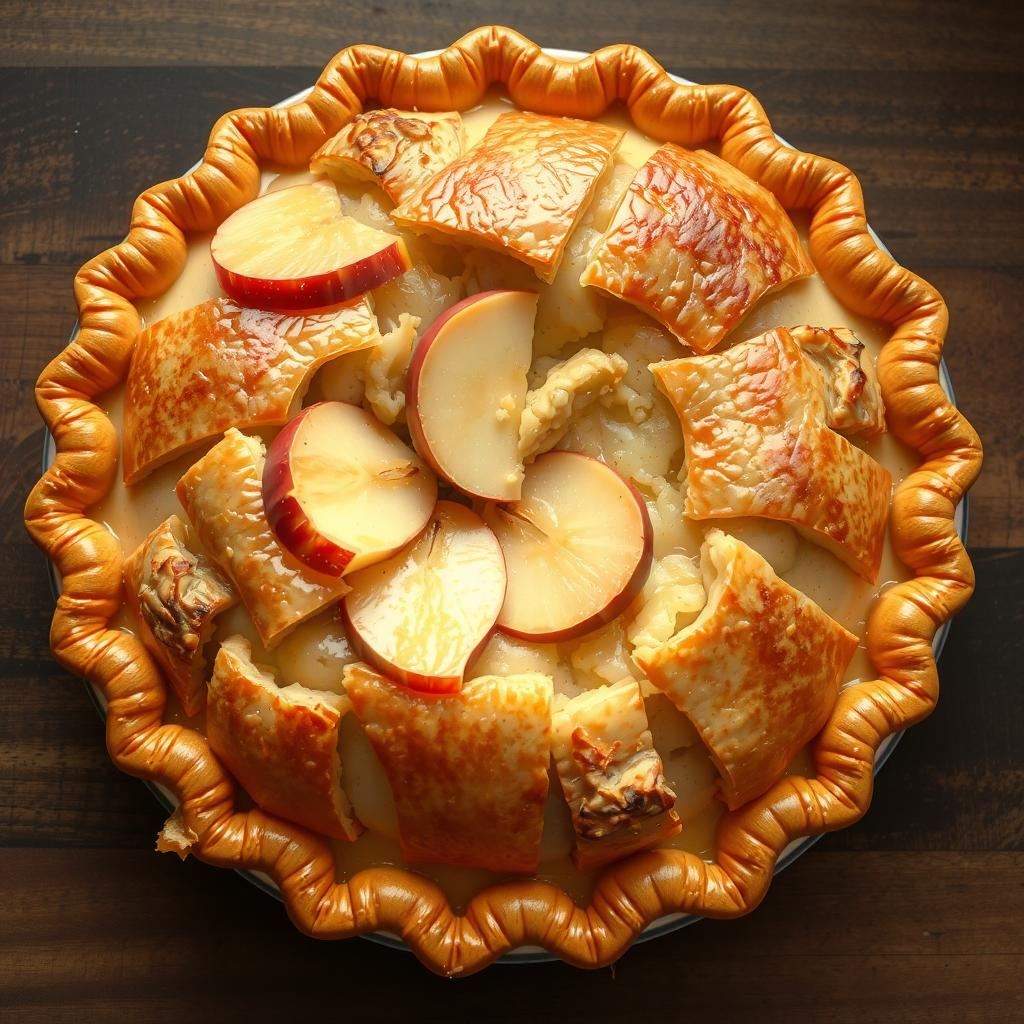pie: (20, 20, 991, 994)
